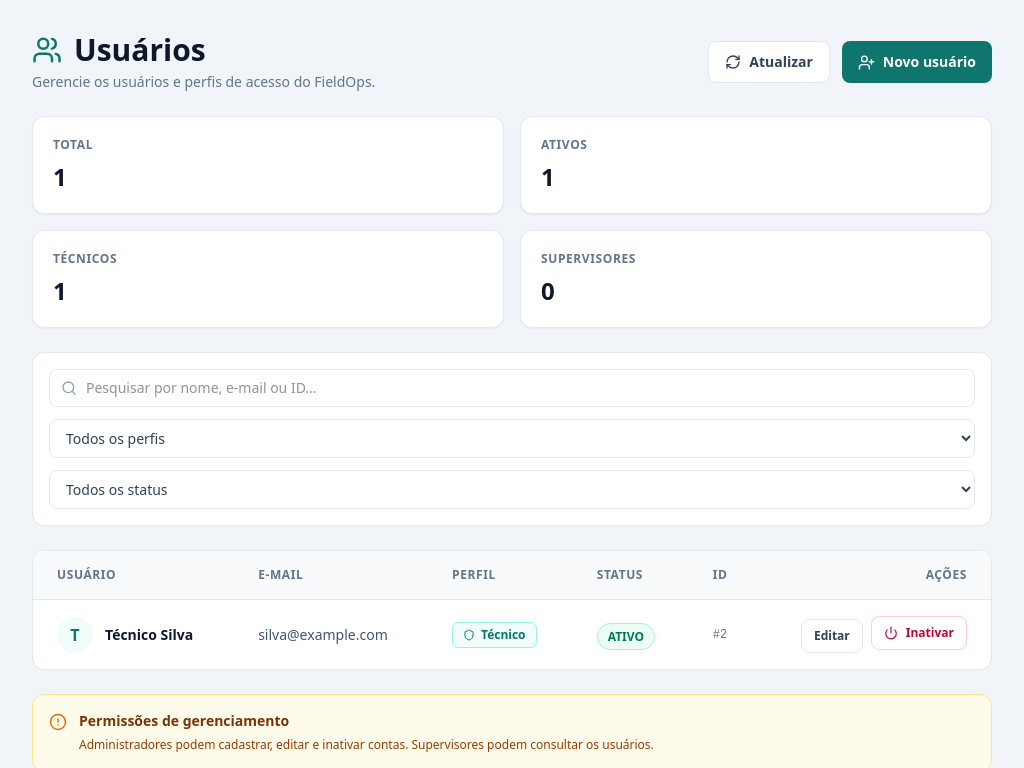
Test: edita usuário sem exigir uma nova senha
The width and height of the screenshot is (1024, 768).
Click the button with aria-label "Editar Técnico Silva" at (832, 636), box [801, 619, 863, 653]
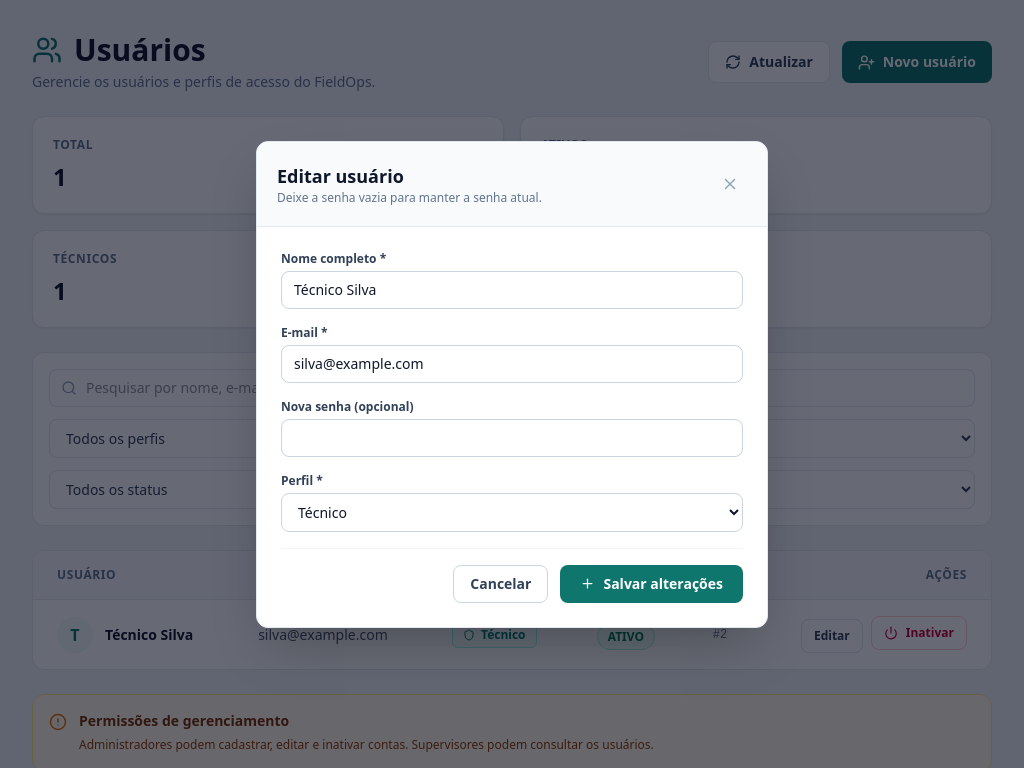
Replace the text in the field labelled "Nome completo *" with "Silva Atualizado" at (512, 290), box [281, 270, 743, 308]
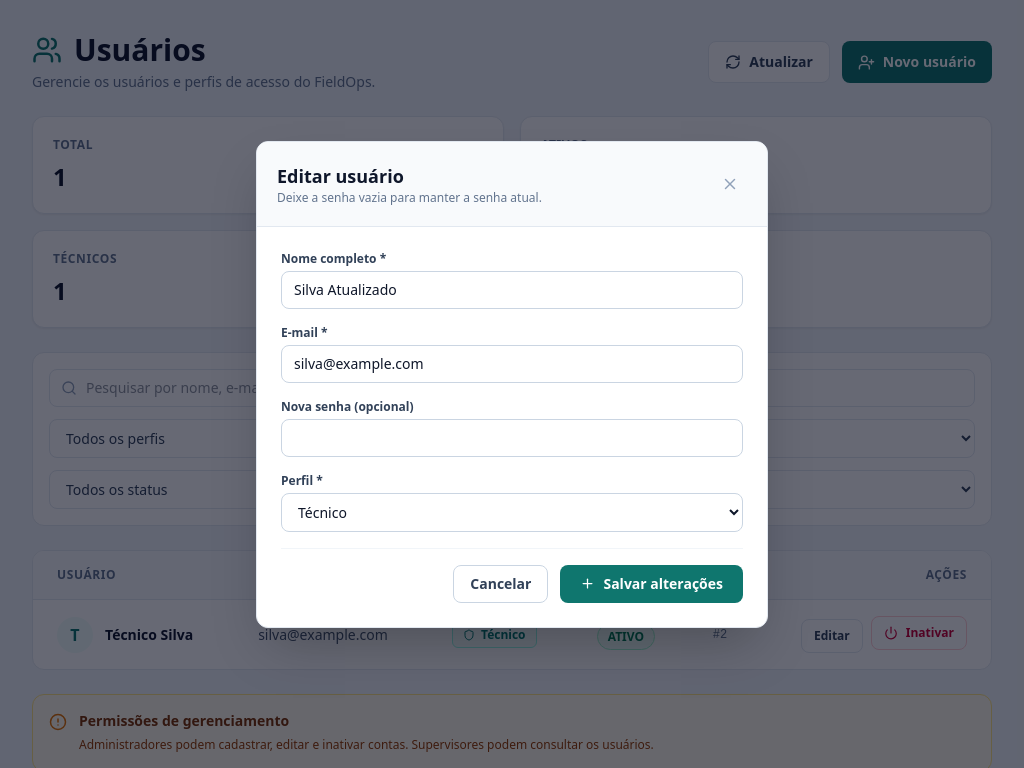
Click the button "Salvar alterações" at (652, 584), box [560, 564, 743, 602]
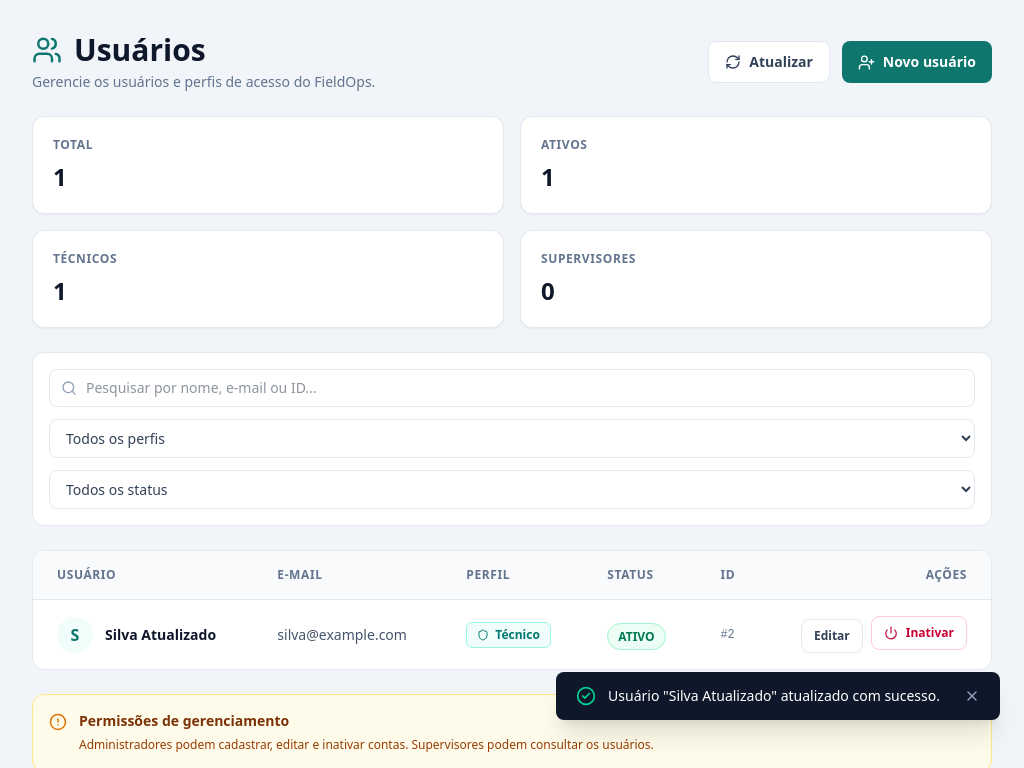
Check: the text "Silva Atualizado" is shown, box [105, 624, 216, 644]
